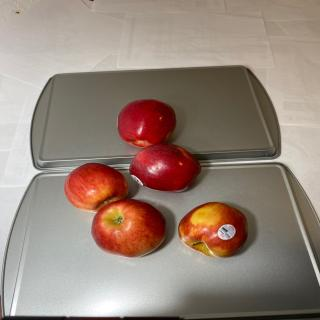Apple: (91, 198, 166, 258), (178, 202, 248, 258), (129, 143, 201, 193), (64, 162, 128, 212), (117, 98, 177, 148)
